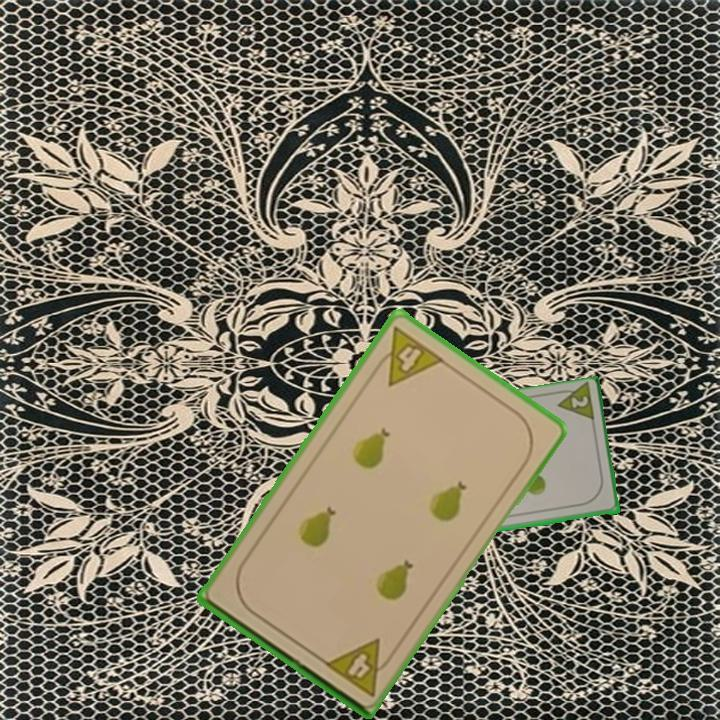2p: (551, 382, 597, 426)
4p: (367, 323, 447, 389), (320, 635, 398, 699)
